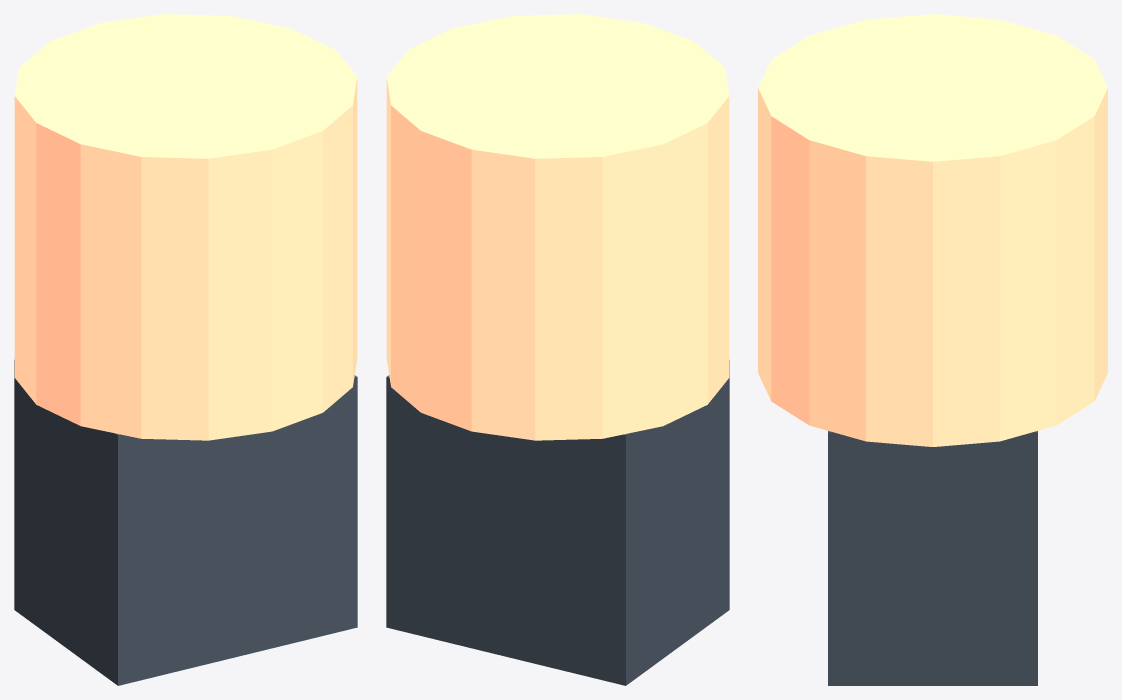
Rendered from Lab_Warning_Light.fbx.
The picture shows the model from 3 angles, left to right: view 1: azimuth 30°, elevation 25°; view 2: azimuth 150°, elevation 25°; view 3: azimuth 270°, elevation 25°; orthographic projection.
Parts seen in each view (by area): view 1: Lab_Warning_Light; view 2: Lab_Warning_Light; view 3: Lab_Warning_Light.
Boxes of the visible parts, bbox=[...] form: Lab_Warning_Light: bbox=[14, 14, 357, 685]; Lab_Warning_Light: bbox=[386, 14, 729, 685]; Lab_Warning_Light: bbox=[758, 14, 1107, 685].
Bounding box in the file's own units: 0.2 × 0.34 × 0.2.
